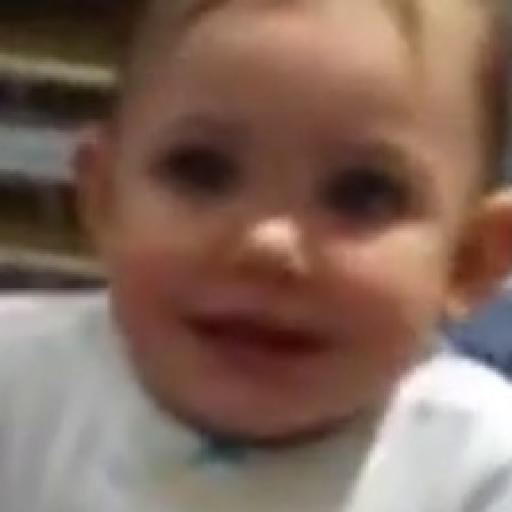Autism: (117, 25, 512, 431)
